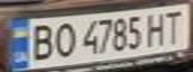4: (78, 17, 100, 55)
5: (124, 13, 148, 51)
7: (93, 16, 115, 53)
8: (109, 15, 130, 52)
B: (24, 21, 57, 62)
H: (142, 9, 169, 47)
O: (48, 20, 78, 57)
T: (160, 7, 187, 45)
